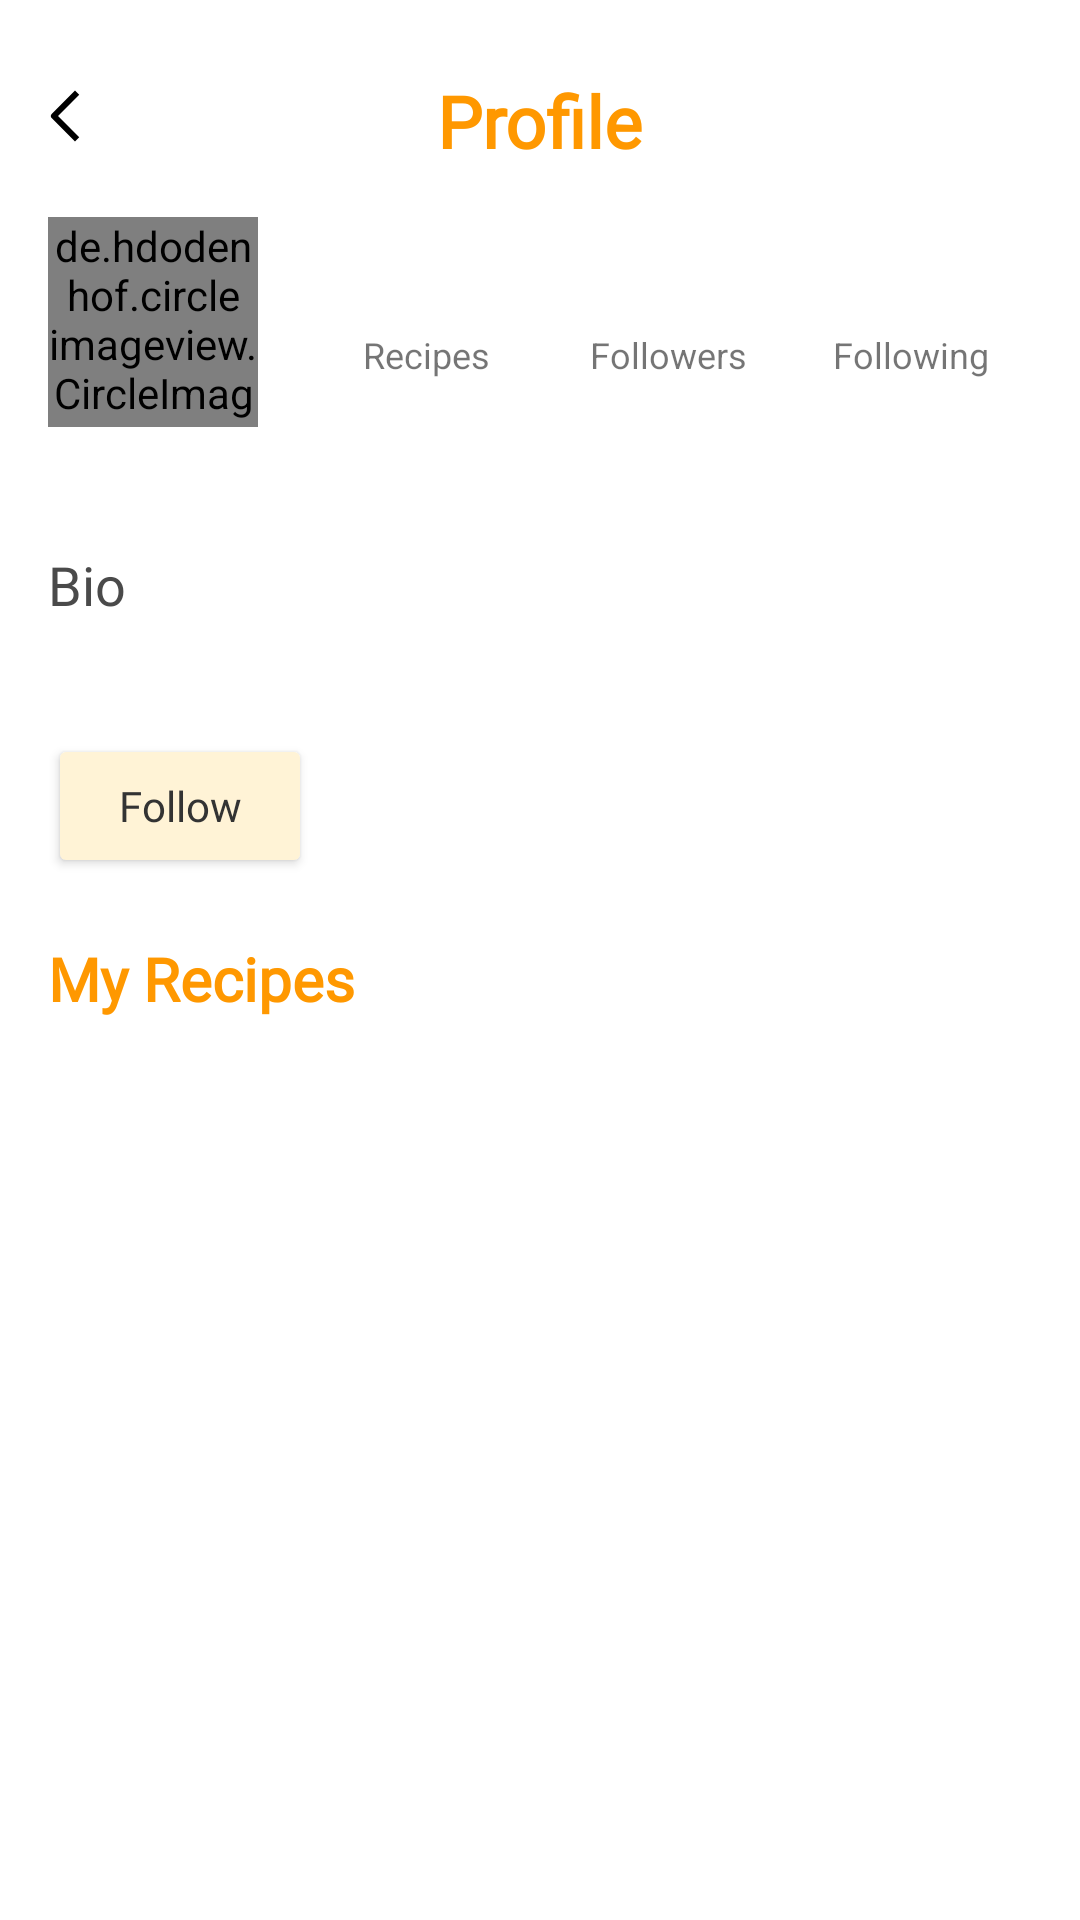

Icon click points for this 1080*1920 phone screenshot, format (x=x, y=y):
back: (x=64, y=116)
